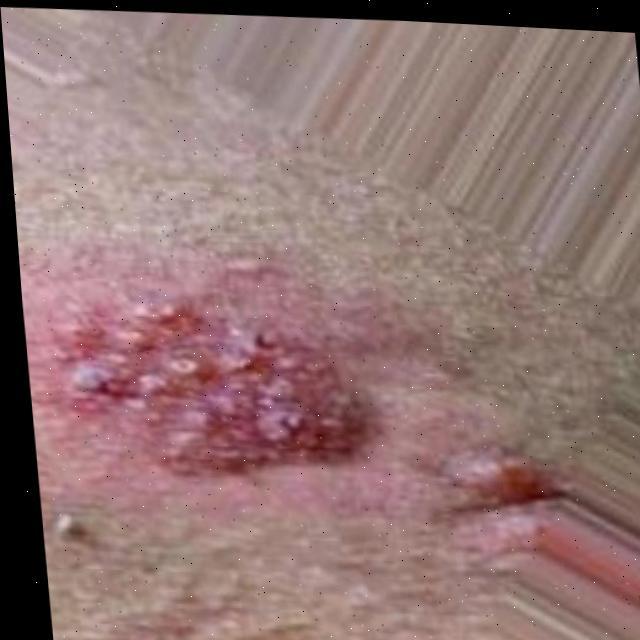Shingles: (49, 293, 395, 486)
